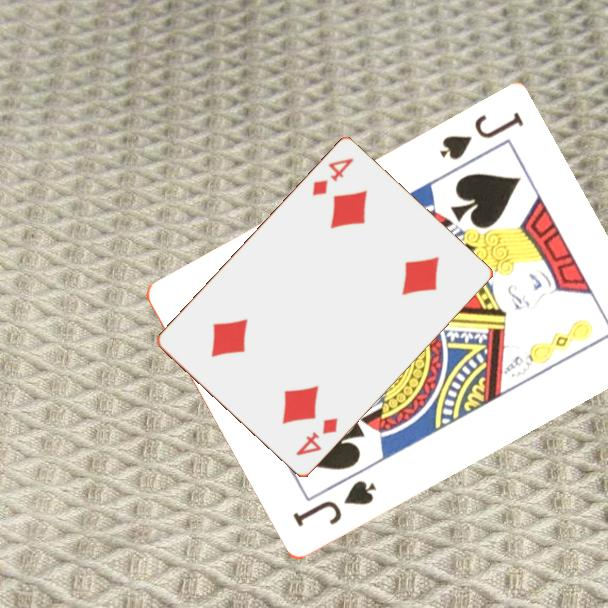d04: (292, 415, 341, 459), (309, 155, 357, 199)
s11: (288, 477, 380, 531), (436, 109, 526, 164)
